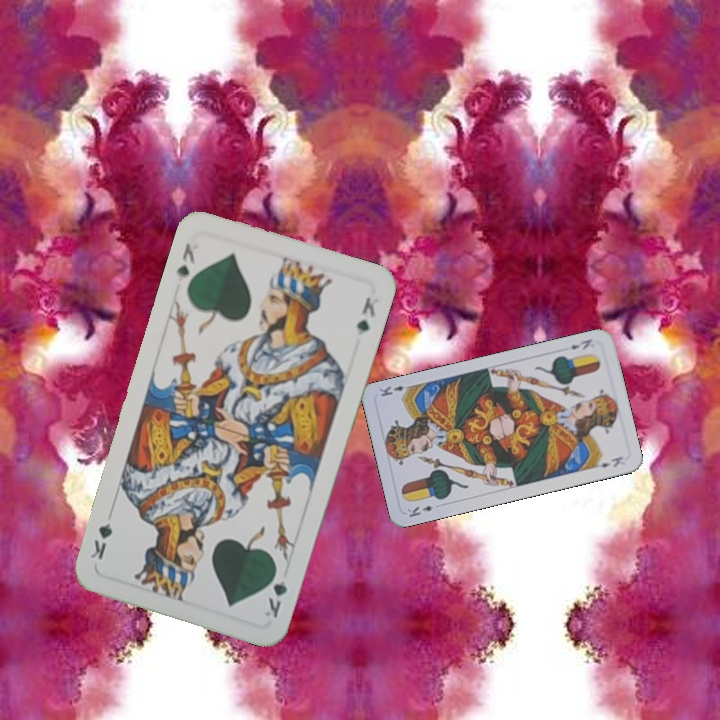EK: (403, 501, 435, 520), (566, 335, 595, 352)
GK: (260, 563, 290, 621), (172, 239, 198, 284)
